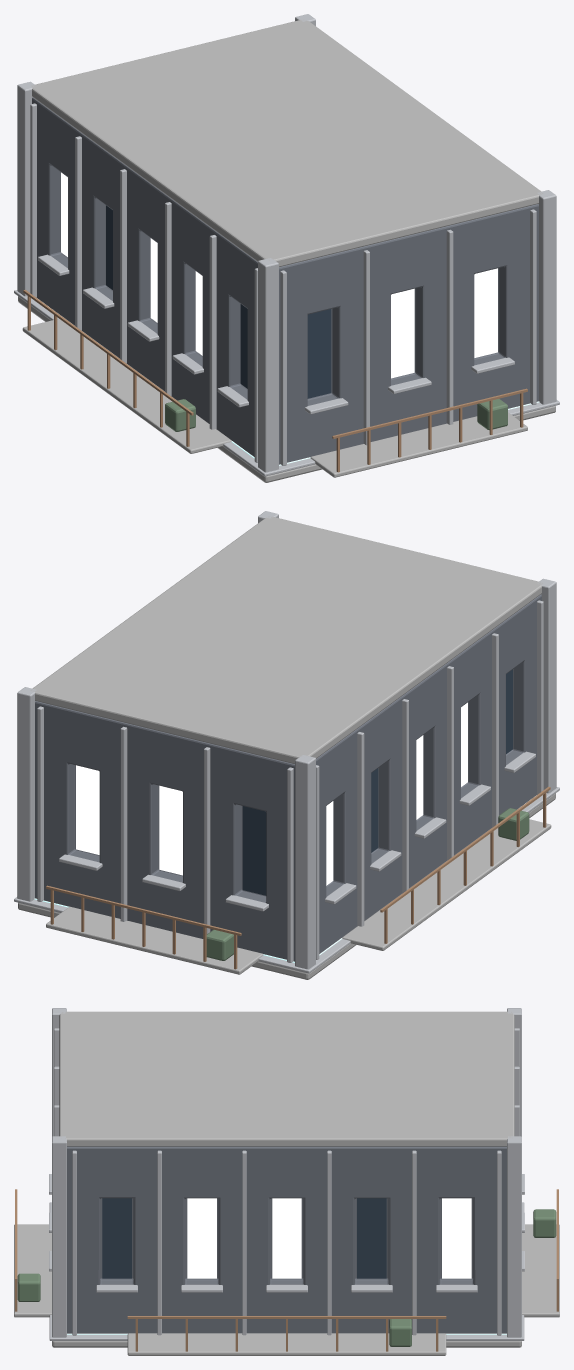
File: res_4x6.glb
The picture shows the model from 3 angles, top to bottom: view 1: azimuth 30°, elevation 25°; view 2: azimuth 150°, elevation 25°; view 3: azimuth 270°, elevation 25°; orthographic projection. The views are drawn at different scales.
Visible parts, largest first — view 1: ext_wall, int_ceiling, ext_frames, int_columns, ext_balcony2, ext_panes_lit, ext_balcony3, ext_panes_dark, ext_rail3, ext_rail2, int_slab_edge, int_slab (+2 smaller); view 2: ext_wall, int_ceiling, ext_frames, int_columns, ext_balcony2, ext_panes_lit, ext_balcony1, ext_panes_dark, ext_rail1, ext_rail2, int_slab_edge, int_slab (+2 smaller); view 3: ext_wall, int_ceiling, ext_frames, ext_panes_lit, int_columns, ext_balcony0, ext_panes_dark, ext_balcony1, ext_balcony3, ext_rail0, int_slab_edge, int_slab (+3 smaller).
Part boxes in pixels (box(x1,y1,x2,y2)): ext_wall: box(32, 97, 538, 464); int_ceiling: box(31, 19, 543, 266); ext_frames: box(30, 103, 536, 465); int_columns: box(17, 14, 556, 472); ext_balcony2: box(22, 318, 231, 453); ext_panes_lit: box(61, 172, 497, 378); ext_balcony3: box(310, 412, 527, 477); ext_panes_dark: box(106, 205, 331, 398); ext_rail3: box(332, 388, 527, 472); ext_rail2: box(23, 289, 193, 446); int_slab_edge: box(14, 290, 559, 476); int_slab: box(18, 296, 555, 482); ext_wall: box(35, 594, 541, 961); int_ceiling: box(30, 516, 542, 763); ext_frames: box(37, 600, 543, 962); int_columns: box(17, 511, 556, 969); ext_balcony2: box(342, 819, 551, 950); ext_panes_lit: box(76, 702, 467, 885); ext_balcony1: box(46, 906, 263, 974); ext_panes_dark: box(242, 669, 512, 895); ext_rail1: box(46, 885, 241, 969); ext_rail2: box(380, 786, 550, 943); int_slab_edge: box(14, 787, 559, 973); int_slab: box(18, 793, 555, 979); ext_wall: box(67, 1146, 506, 1333); int_ceiling: box(59, 1011, 514, 1146); ext_frames: box(49, 1028, 524, 1335); ext_panes_lit: box(187, 1198, 471, 1278); int_columns: box(52, 1008, 521, 1337); ext_balcony0: box(127, 1333, 446, 1355); ext_panes_dark: box(102, 1198, 386, 1278); ext_balcony1: box(522, 1224, 559, 1317); ext_balcony3: box(14, 1224, 51, 1317); ext_rail0: box(127, 1316, 446, 1351); int_slab_edge: box(49, 1202, 524, 1340); int_slab: box(52, 1341, 521, 1347).
Size of the model in its own units: 5.2 by 3 by 7.2.
